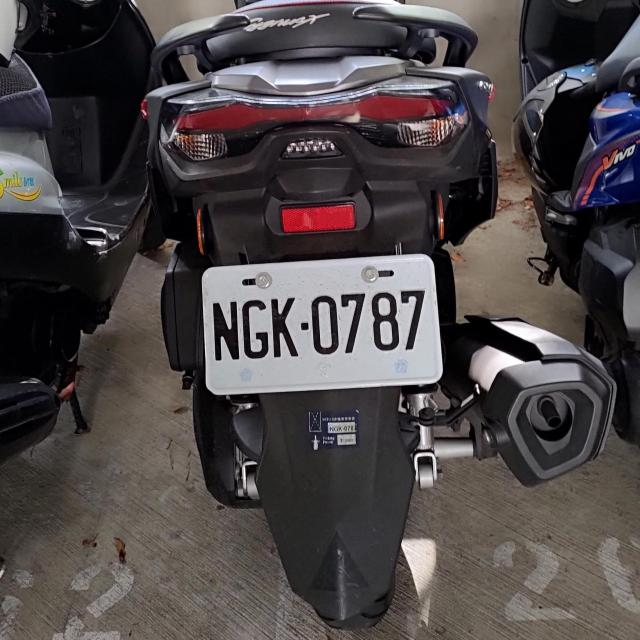W: (198, 252, 444, 395)
